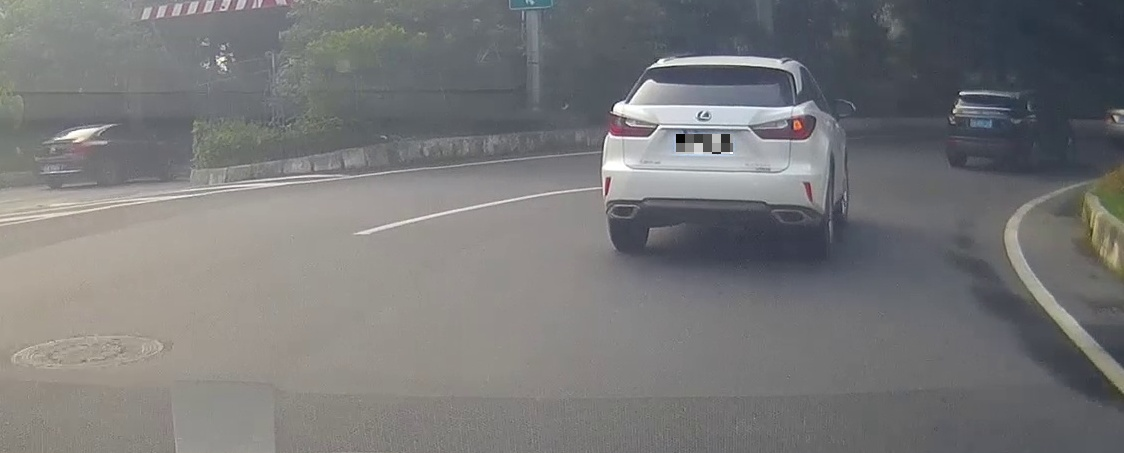L_light: (607, 113, 660, 138), (947, 116, 968, 127)
R_light: (748, 114, 817, 141), (1011, 116, 1033, 127)
T_light: (698, 65, 727, 72), (981, 95, 997, 100)
day-no: (946, 87, 1035, 169)
day-right: (601, 55, 823, 259)
plate_1: (676, 134, 733, 154)
